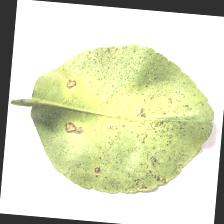canker: (114, 76, 192, 168)
